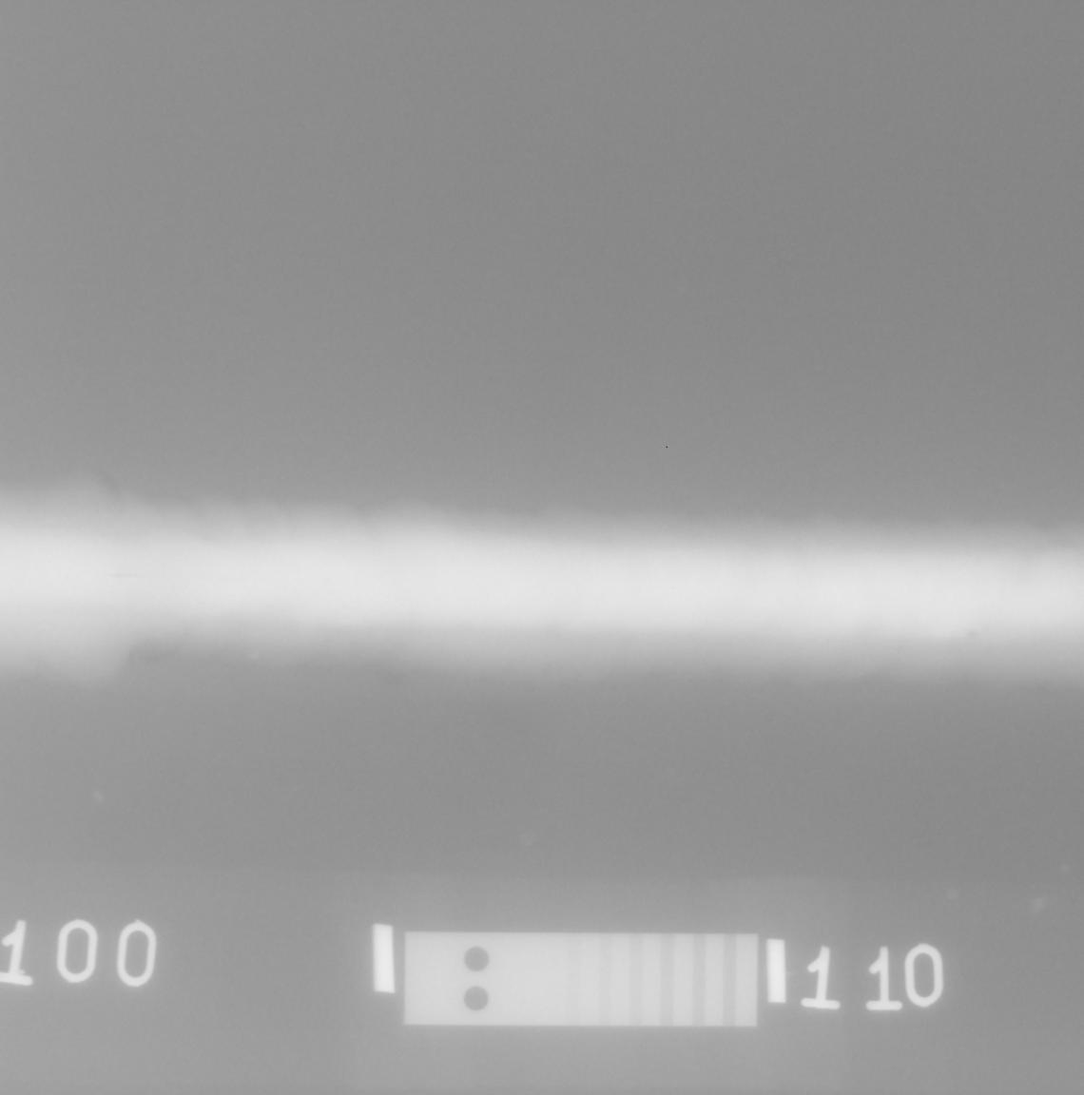Incomplete Root Penetration: (113, 572, 144, 578)
Pore/Porosity: (967, 631, 978, 639), (323, 576, 331, 582)
Reference Standard 2: (404, 931, 757, 1027)
